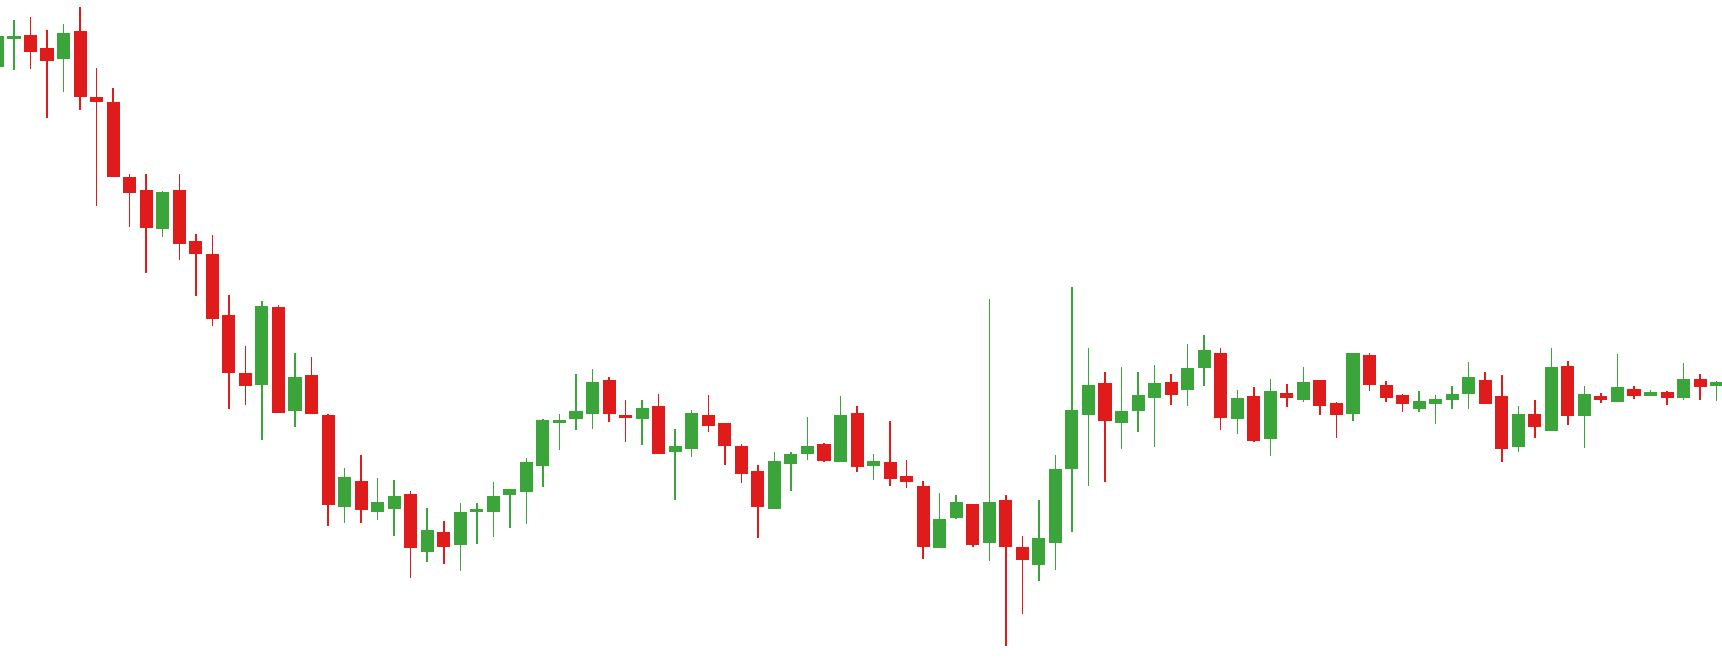buy: (749, 444, 947, 566), (1329, 383, 1530, 459)
